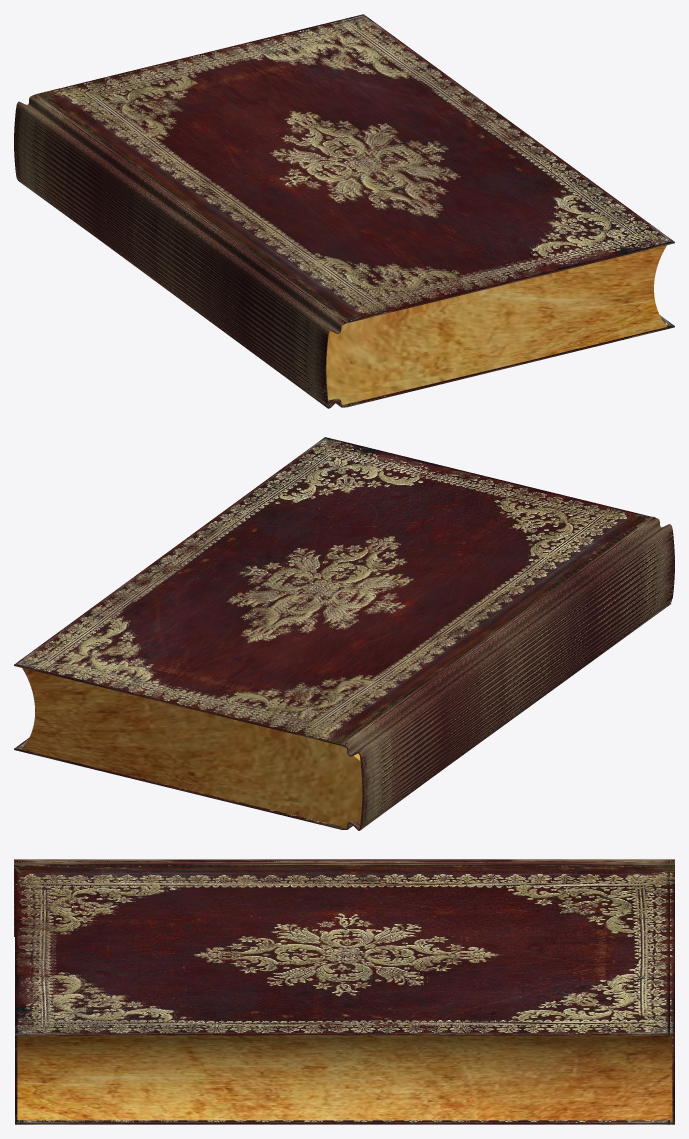
The model's file is Book1.FBX.
3 views of the same model, one above another, from view 1: azimuth 30°, elevation 25°; view 2: azimuth 150°, elevation 25°; view 3: azimuth 270°, elevation 25° (orthographic). The views are drawn at different scales.
Visible parts, largest first — view 1: Shape001, Arc001; view 2: Shape001, Arc001; view 3: Shape001, Arc001.
Part boxes in pixels (x1,y1,x2,y2): Shape001: [14, 14, 674, 408]; Arc001: [326, 245, 667, 404]; Shape001: [14, 437, 674, 830]; Arc001: [22, 668, 362, 827]; Shape001: [14, 859, 674, 1124]; Arc001: [17, 1035, 672, 1120].
Size of the model in its own units: 9.15 by 2.13 by 14.13.
Materials: 2 (2 with a texture image).
